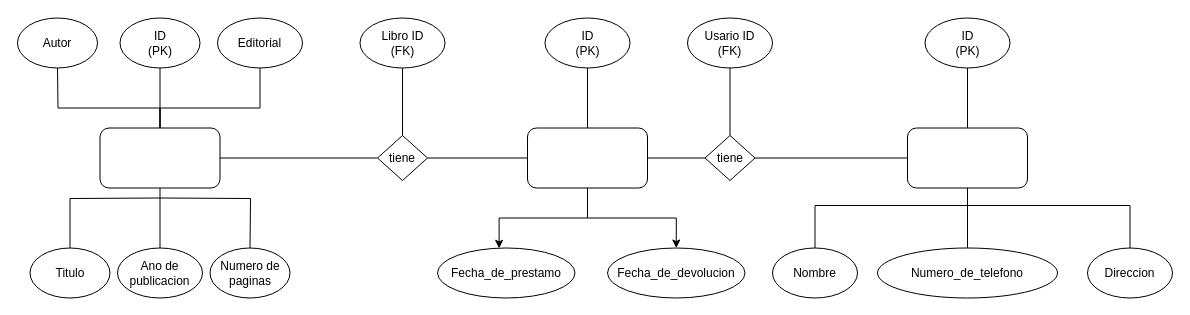
Some shapes in this 1190 by 315 pixel diagram are drawn without their labels. Each missing label, with the box of its shape:
Libros: (99, 127, 220, 188)
Préstamos: (526, 127, 648, 188)
Usarios: (906, 127, 1028, 188)
